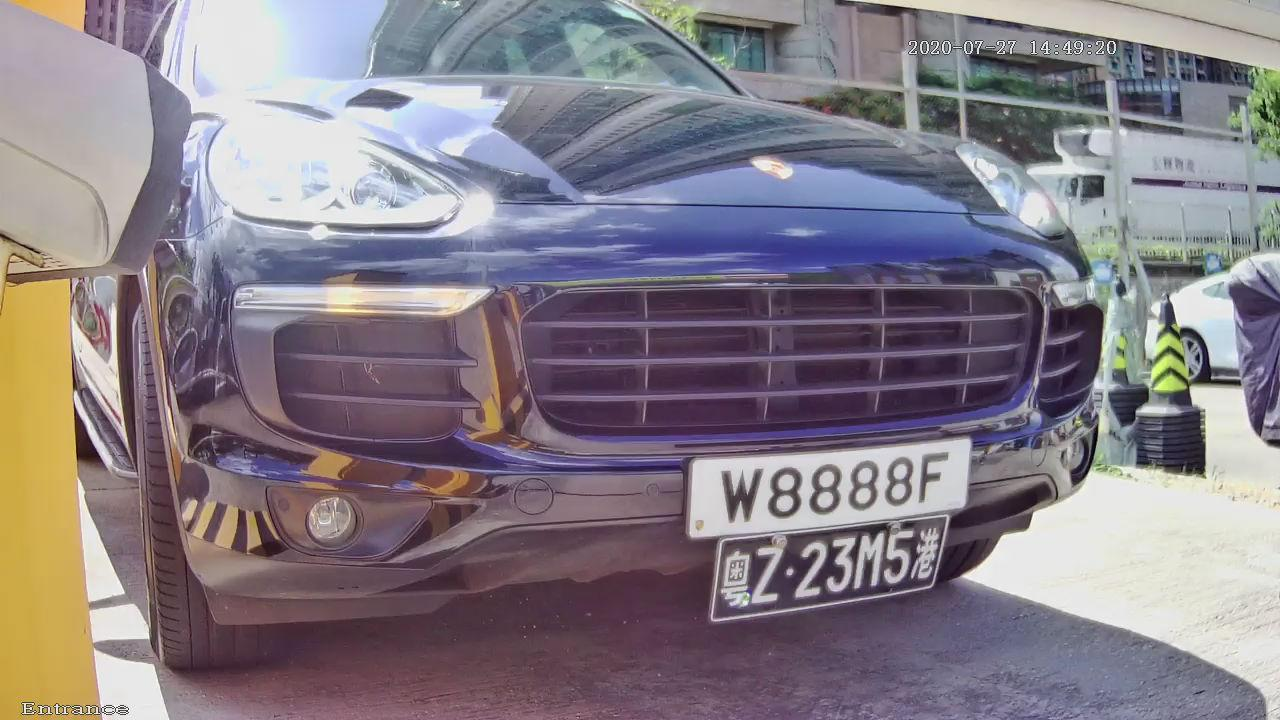privatecar: (63, 10, 1143, 682)
